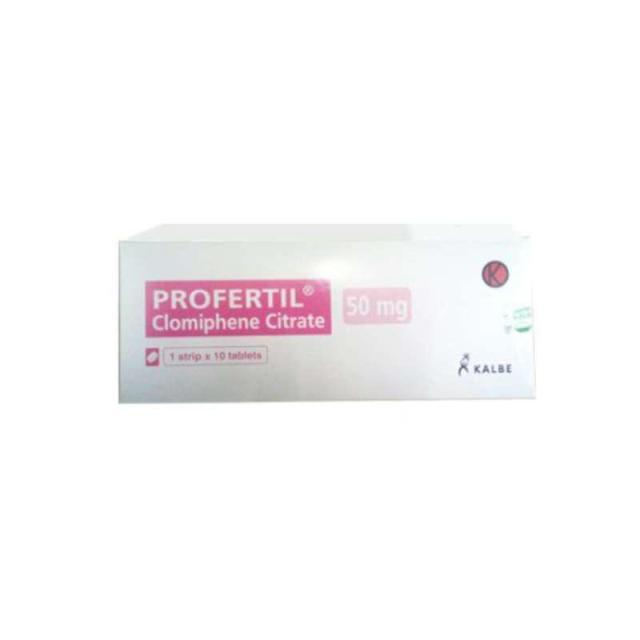drug-name: (148, 284, 312, 312)
